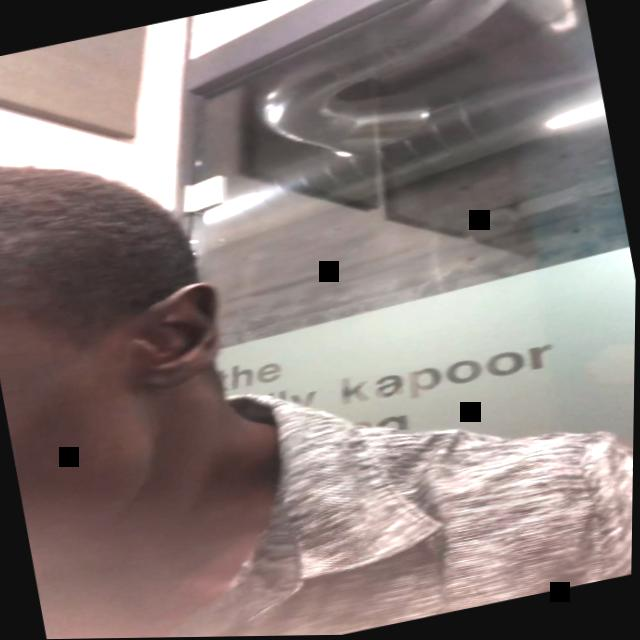NO-Mask: (0, 259, 214, 585)
